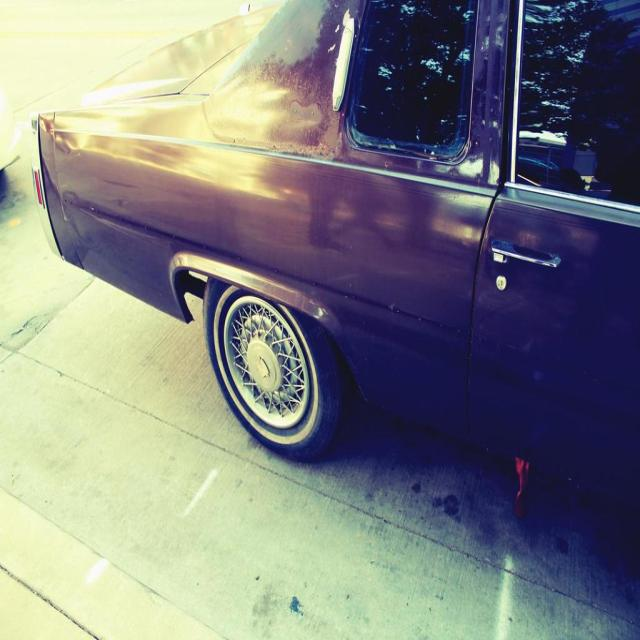car: (35, 27, 611, 502)
